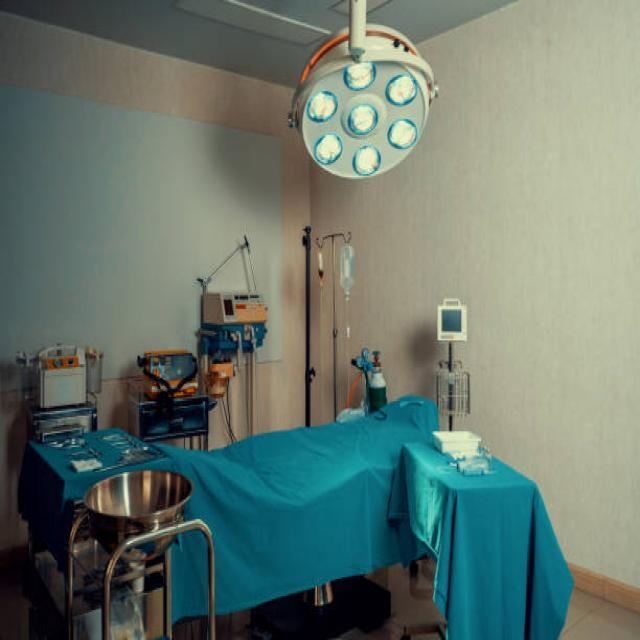Monitor: (393, 422, 572, 640), (25, 420, 170, 640), (433, 298, 472, 351)
bed: (128, 395, 450, 640)
